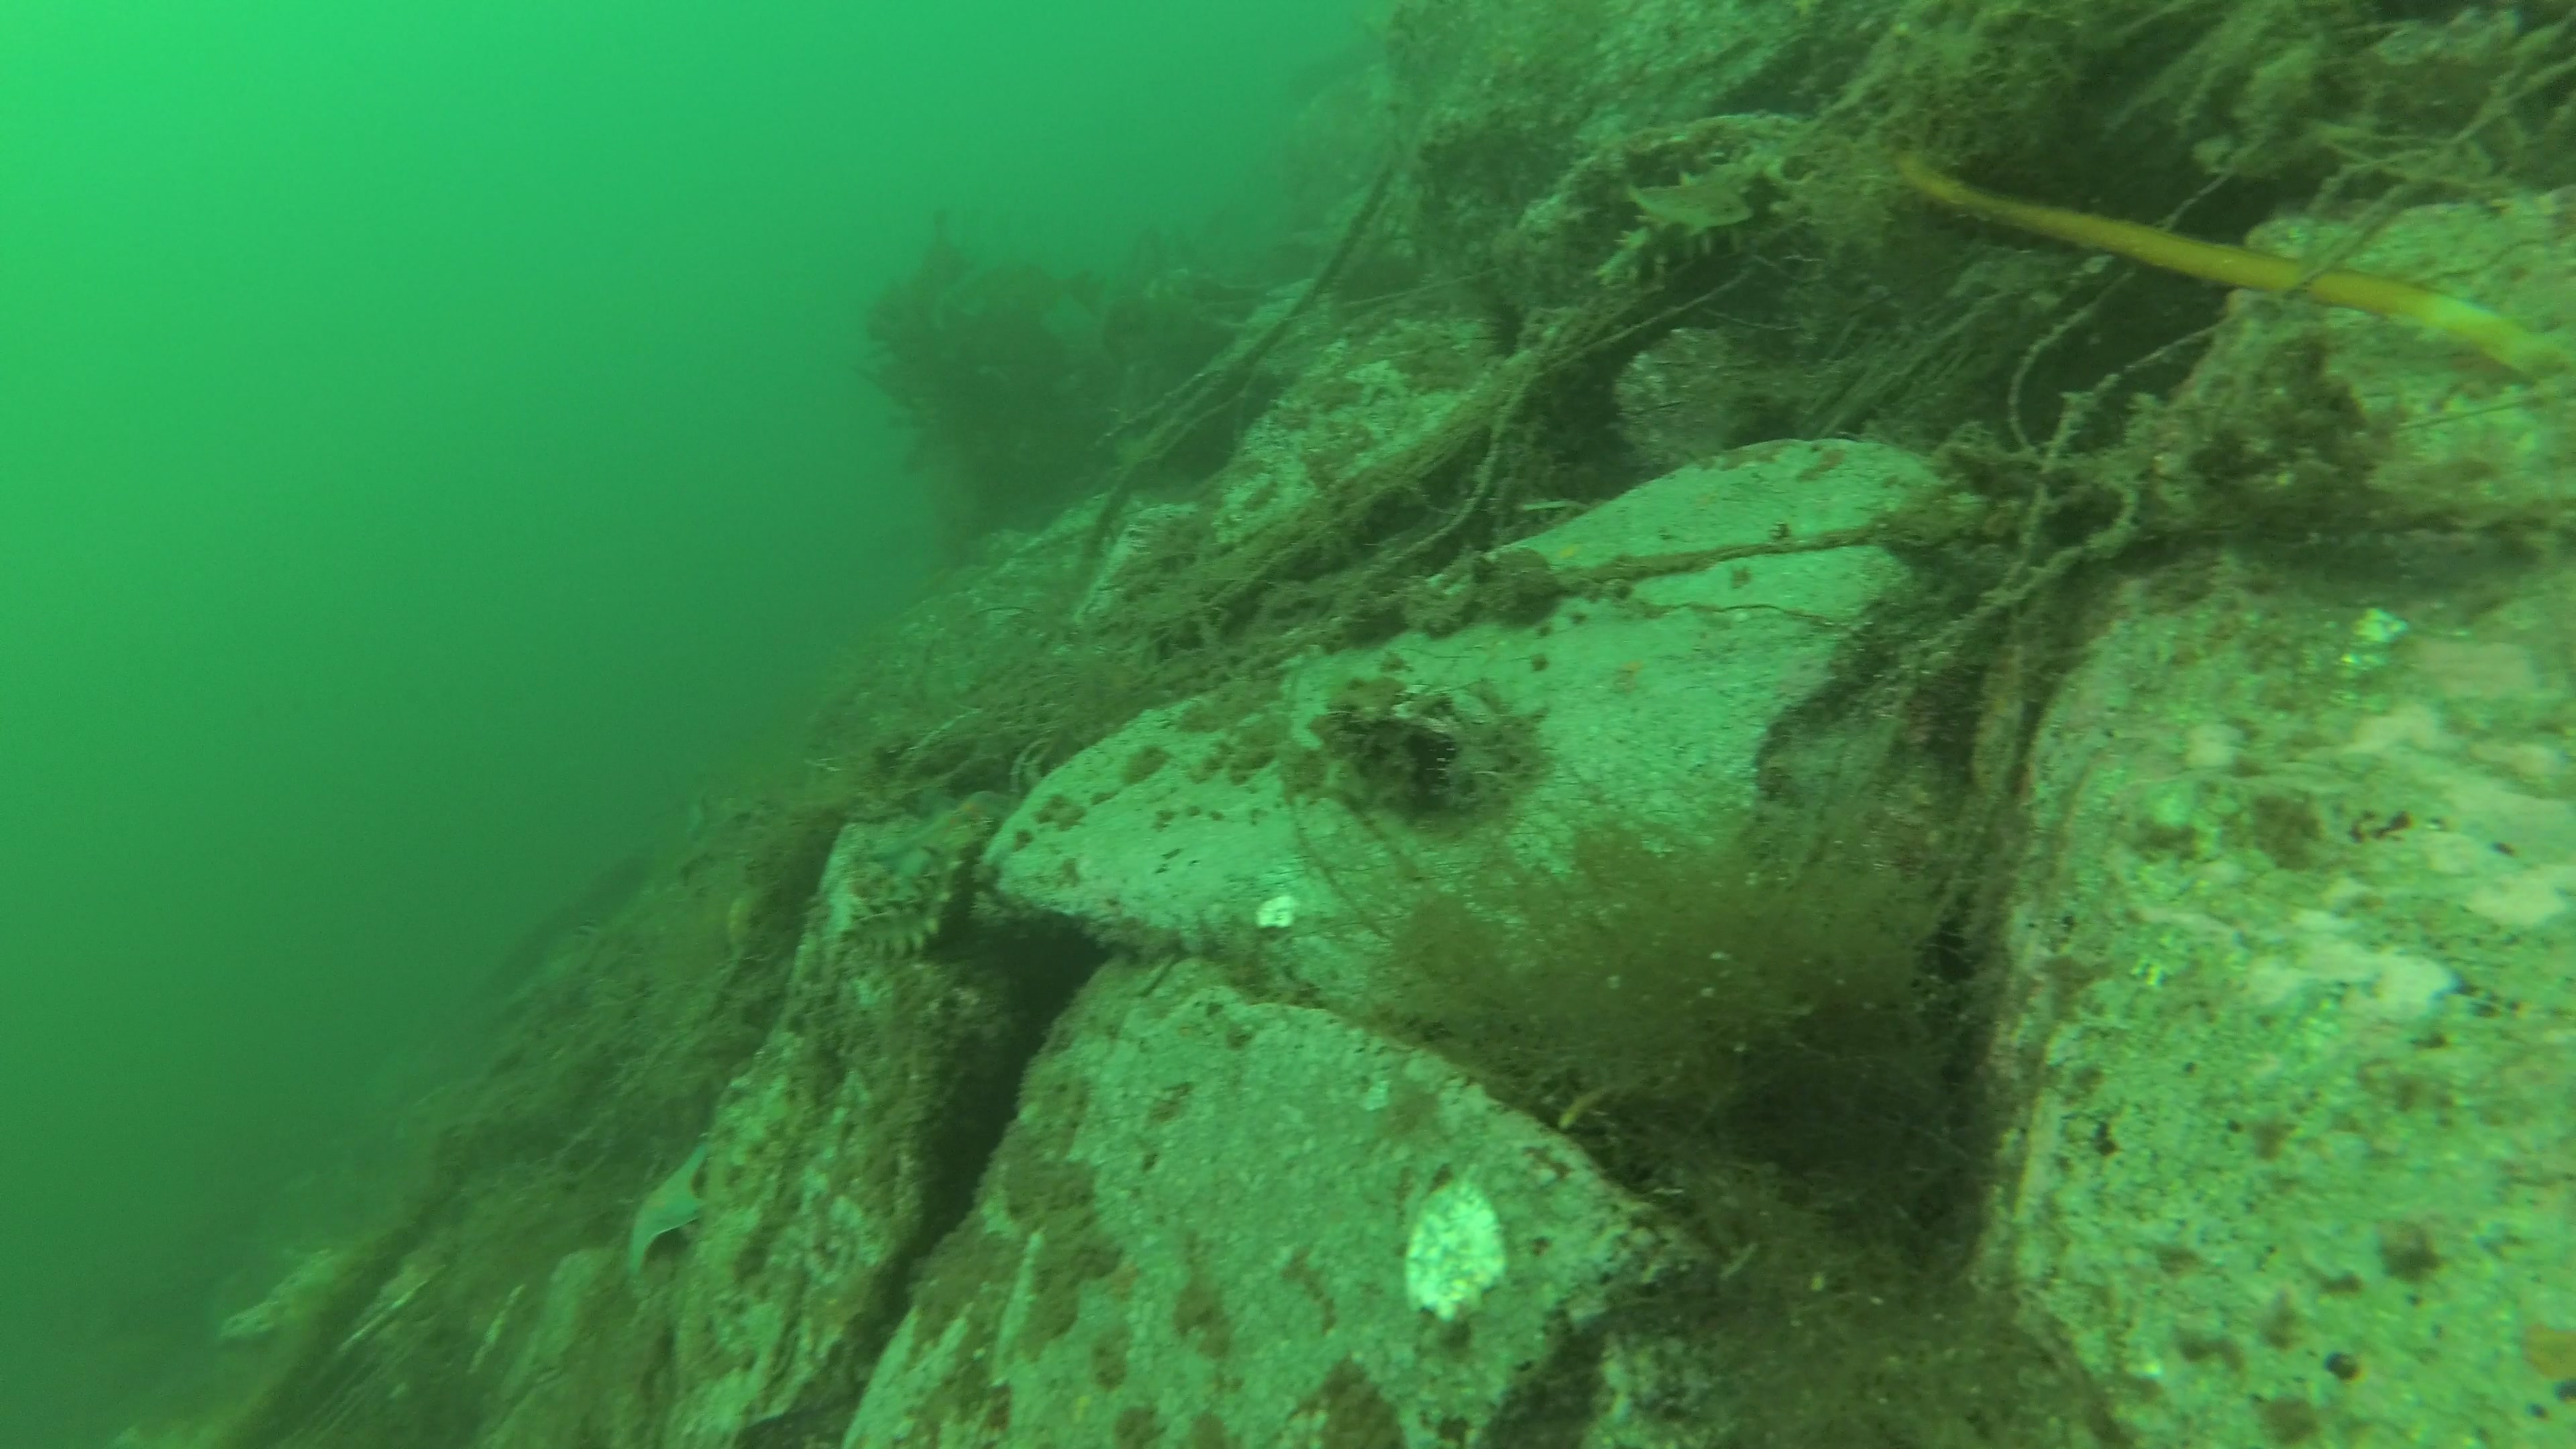echinus: (1346, 674, 1523, 816)
holothurian: (1591, 142, 1789, 287), (833, 833, 985, 955)
starfish: (632, 1143, 717, 1277)
